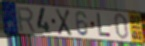0: (113, 13, 129, 41)
4: (36, 7, 53, 36)
6: (74, 9, 89, 38)
L: (96, 12, 112, 39)
R: (16, 6, 37, 34)
X: (54, 7, 73, 37)
